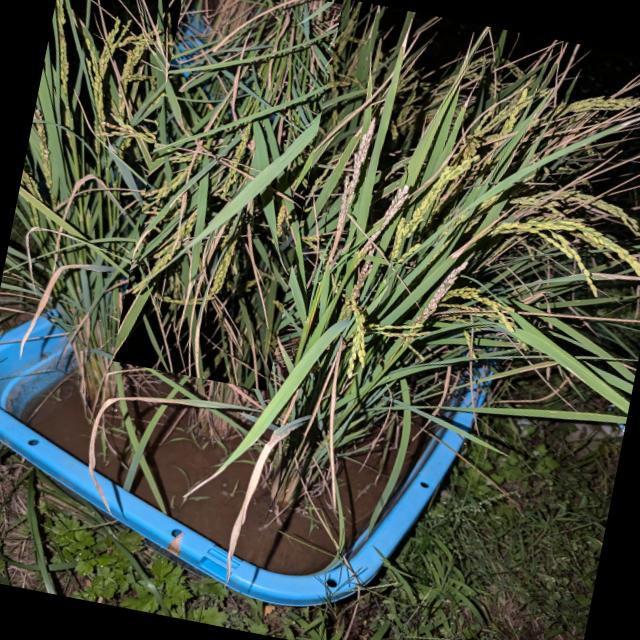9month_ine: (236, 38, 640, 559), (166, 0, 449, 471), (0, 0, 216, 420), (112, 0, 342, 391)
